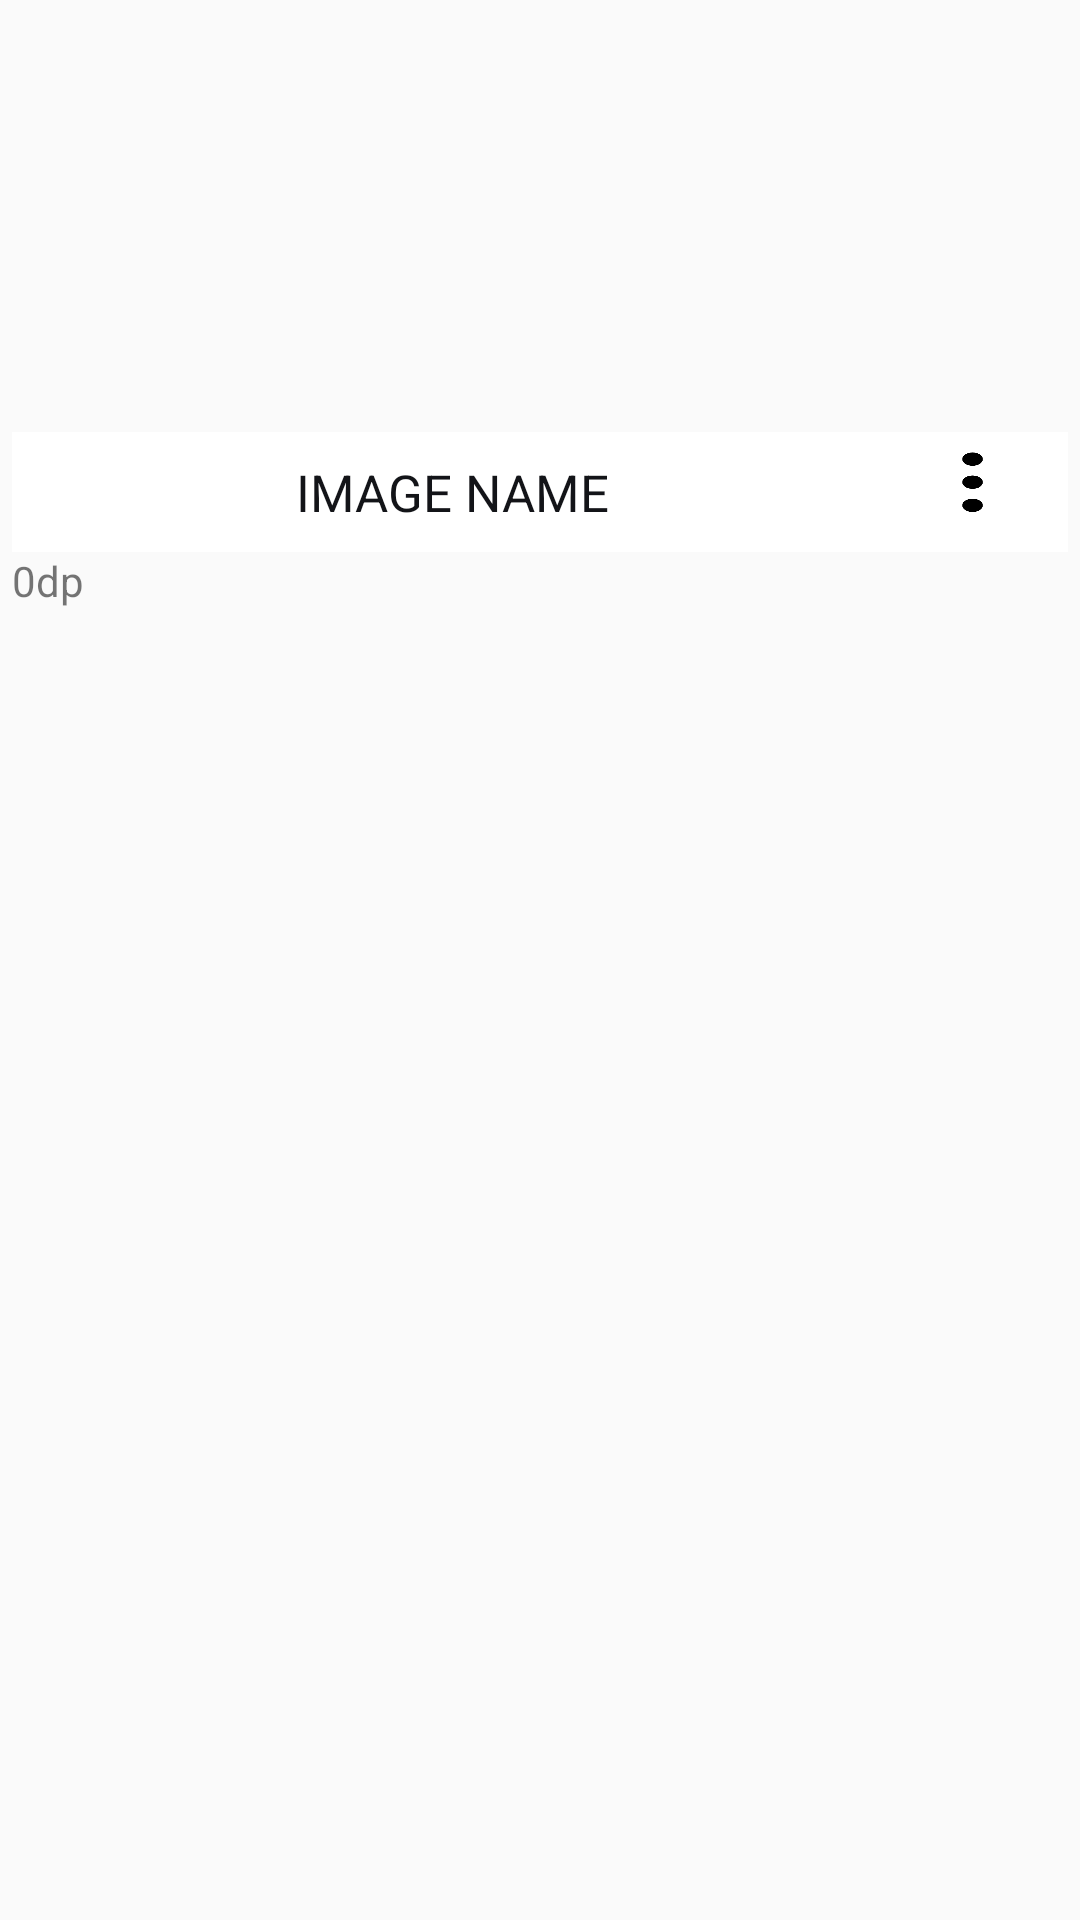

Locate icon controls on the screen. Image size 1080px x 1920px, boxes as region(x1, y1, x2, y2).
setting: region(962, 452, 983, 512)
